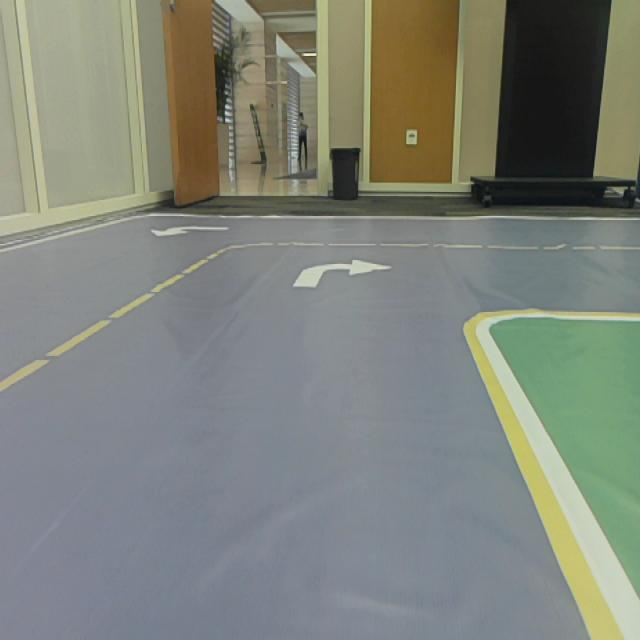left_lane: (0, 250, 227, 395)
right_lane: (463, 333, 624, 640)
